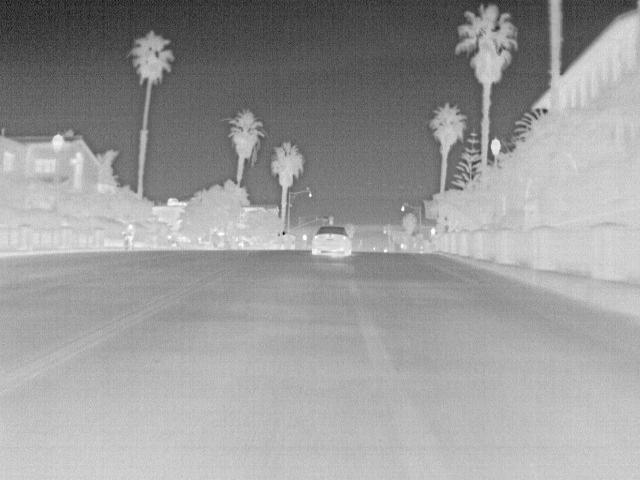car: (308, 224, 352, 260)
person: (121, 222, 136, 250)
